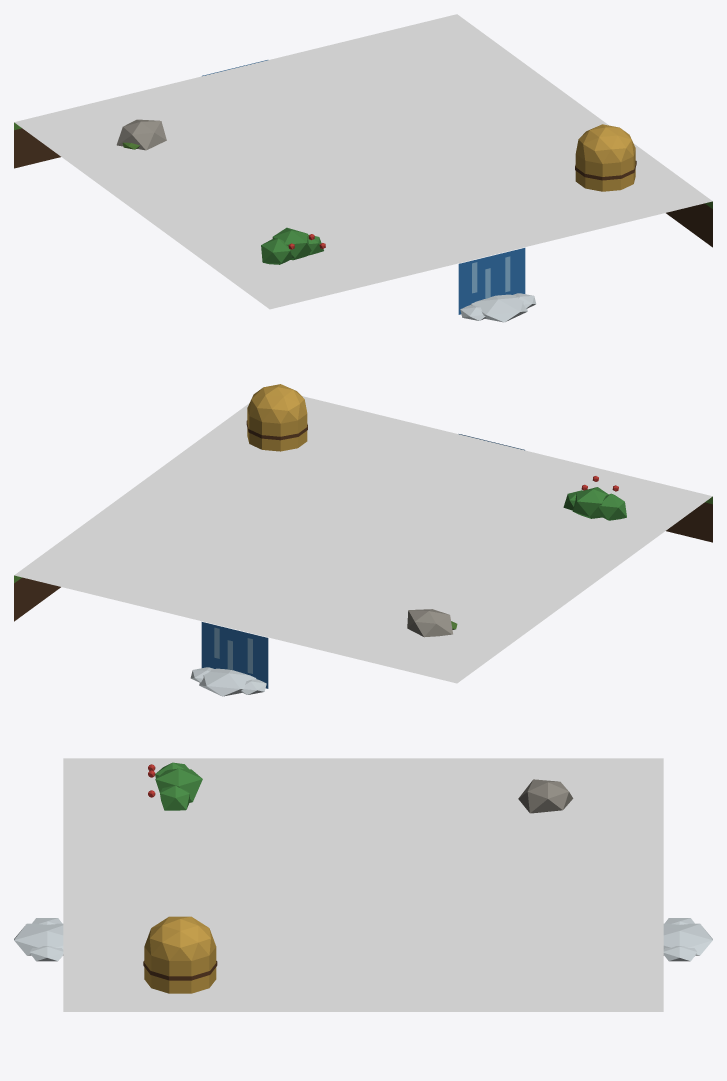
The picture shows the model from 3 angles, top to bottom: view 1: azimuth 30°, elevation 25°; view 2: azimuth 150°, elevation 25°; view 3: azimuth 270°, elevation 25°; orthographic projection. The views are drawn at different scales.
Visible parts, largest first — view 1: wS, fall_S; view 2: wS, fall_N; view 3: wS, fall_N, fall_S.
Boxes of the visible parts, x1=… form: wS: x1=14, y1=14, x2=712, y2=309; fall_S: x1=458, y1=248, x2=536, y2=322; wS: x1=14, y1=384, x2=712, y2=683; fall_N: x1=190, y1=622, x2=268, y2=696; wS: x1=63, y1=758, x2=663, y2=1011; fall_N: x1=663, y1=918, x2=712, y2=961; fall_S: x1=14, y1=918, x2=63, y2=961.
Bounding box in the file's own units: 2 × 0.4545 × 2.33.
